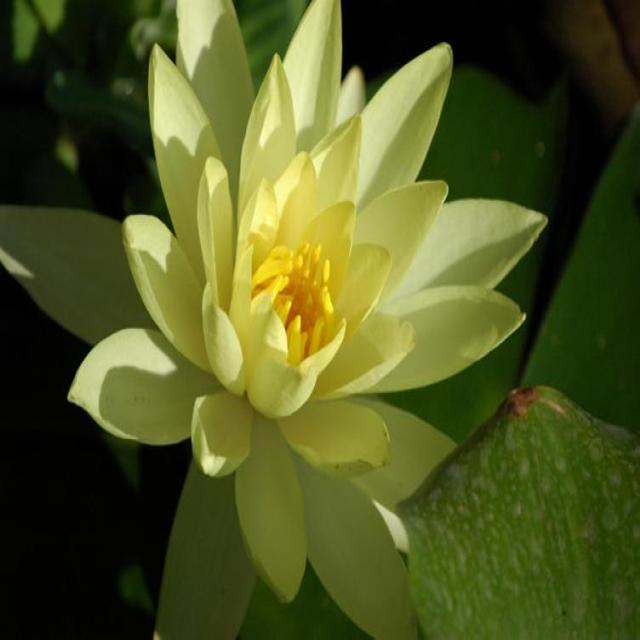rose: (18, 6, 571, 640)
